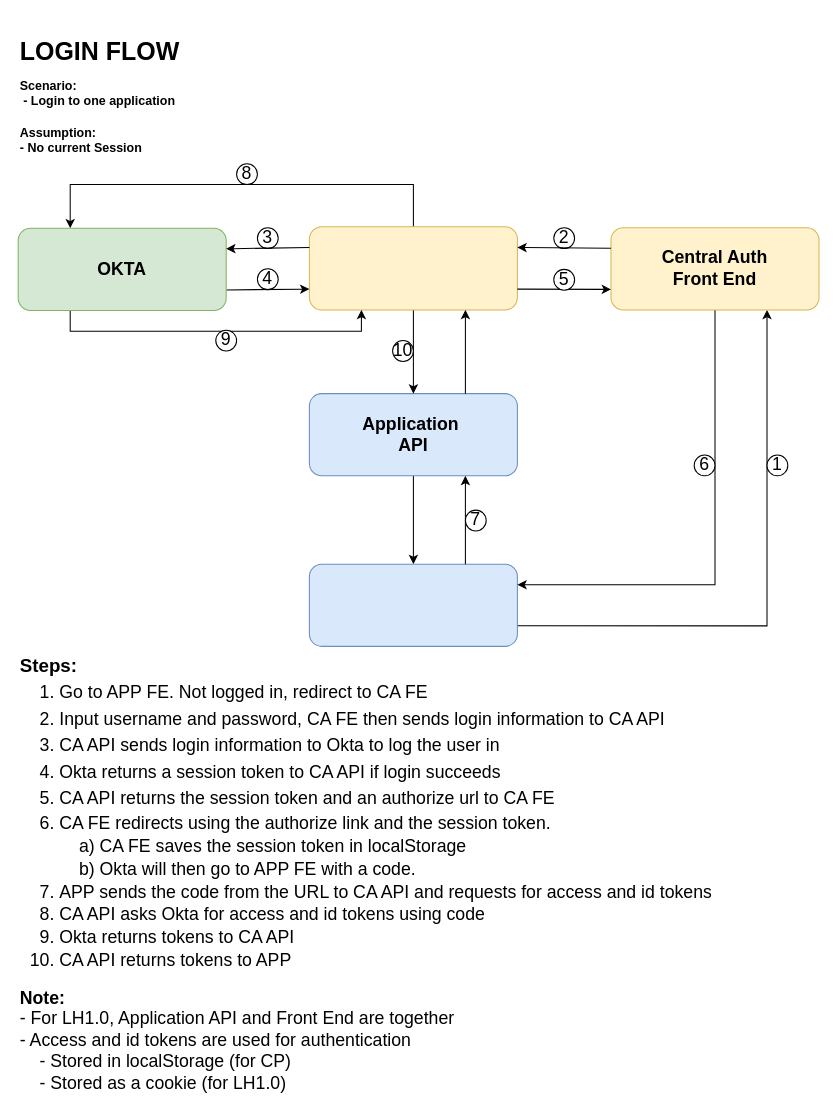
The diagram is 837 pixels wide and 1112 high, and some of its shapes have lost their labels. Here are the shapes that lost their labels. From the top down, the box of each, then its label:
(308, 226, 517, 310): Central Auth API
(308, 563, 517, 646): Application Front End
